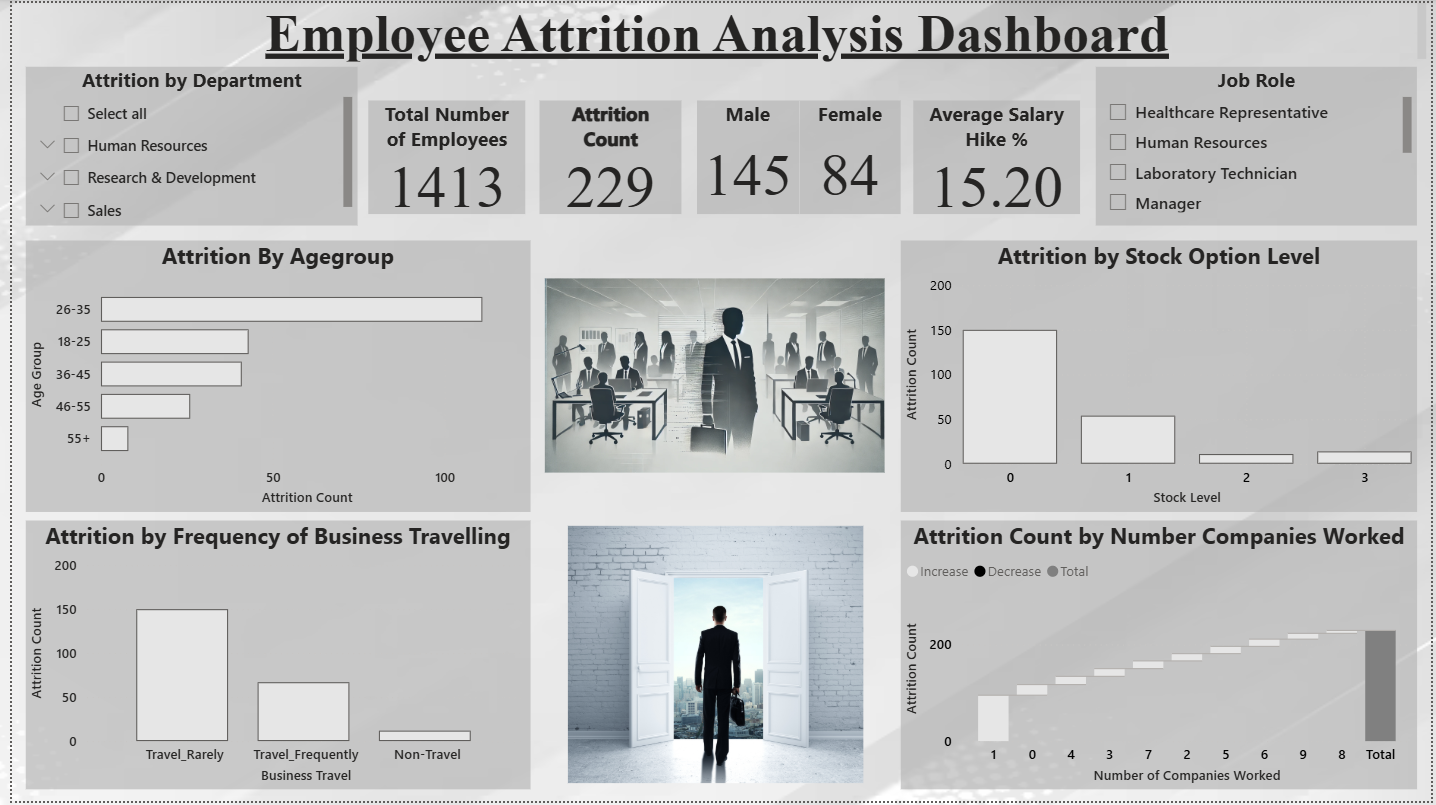

The dashboard page shown, as its layout file describes it:
{"tool":"powerbi","page":{"name":"Page 1","canvas":[1280,720],"ordinal":0},"visuals":[{"type":"textbox","box":[0,0,1280.3,57.5],"z":0},{"type":"card","title":"Total Number of Employees","fields":{"Values":["CountNonNull(Sheet1.AttritionCount)"]},"box":[321.6,88,141.8,102.7],"z":1000},{"type":"card","title":"Attrition Count","fields":{"Values":["Sum(Sheet1.AttritionCount)"]},"box":[475.7,88,128.4,102.7],"z":2000},{"type":"card","title":"Male ","fields":{"Values":["Sum(Sheet1.Male Attrition)"]},"box":[617.5,88,91.7,102.7],"z":3000},{"type":"card","title":"Female","fields":{"Values":["Sum(Sheet1.Female Attrition)"]},"box":[710,87.8,91.1,102.2],"z":4000},{"type":"slicer","title":"Attrition by Department","fields":{"Values":["Sheet1.Department","Sheet1.NumCompaniesWorked"]},"box":[12.2,57.5,299.6,143.1],"z":5000},{"type":"clusteredBarChart","title":"Attrition By Agegroup","fields":{"Category":["Sheet1.AgeGroup"],"Y":["Sum(Sheet1.AttritionCount)"]},"box":[12.2,214,454.9,244.6],"z":6000},{"type":"lineStackedColumnComboChart","title":"Attrition by Frequency of Business Travelling","fields":{"Category":["Sheet1.BusinessTravel"],"Y":["Sum(Sheet1.AttritionCount)"]},"box":[12.2,467.1,454.9,242.1],"z":7000},{"type":"slicer","title":"Job Role","fields":{"Values":["Sheet1.JobRole"]},"box":[977,57.5,289.8,143.1],"z":8000},{"type":"card","title":"Average Salary Hike %","fields":{"Values":["Avg(Sheet1.PercentSalaryHike)"]},"box":[813.2,88,150.4,102.7],"z":9000},{"type":"clusteredColumnChart","title":"Attrition by Stock Option Level","fields":{"Y":["Sum(Sheet1.AttritionCount)"],"Category":["Sheet1.StockOptionLevel"]},"box":[801,214,465.9,244.6],"z":10000},{"type":"waterfallChart","title":"Attrition Count by Number Companies Worked","fields":{"Category":["Sheet1.NumCompaniesWorked"],"Y":["Sum(Sheet1.AttritionCount)"]},"box":[801,467.1,465.9,242.1],"z":11000},{"type":"image","box":[475.7,243.3,316.7,184.6],"z":12000},{"type":"image","box":[476,467,317,242],"z":13000}]}

Visuals, with their boxes in screenshot pixels (x1, y1, x2, y2), scaled from the page's 1280x720 canvas onto the 1436x805 screenshot:
textbox: [left=0, top=0, right=1435, bottom=64]
"Total Number of Employees" card: [left=361, top=98, right=520, bottom=213]
"Attrition Count" card: [left=534, top=98, right=678, bottom=213]
"Male " card: [left=693, top=98, right=796, bottom=213]
"Female" card: [left=797, top=98, right=899, bottom=212]
"Attrition by Department" slicer: [left=14, top=64, right=350, bottom=224]
"Attrition By Agegroup" clusteredBarChart: [left=14, top=239, right=524, bottom=513]
"Attrition by Frequency of Business Travelling" lineStackedColumnComboChart: [left=14, top=522, right=524, bottom=793]
"Job Role" slicer: [left=1096, top=64, right=1421, bottom=224]
"Average Salary Hike %" card: [left=912, top=98, right=1081, bottom=213]
"Attrition by Stock Option Level" clusteredColumnChart: [left=899, top=239, right=1421, bottom=513]
"Attrition Count by Number Companies Worked" waterfallChart: [left=899, top=522, right=1421, bottom=793]
image: [left=534, top=272, right=889, bottom=478]
image: [left=534, top=522, right=890, bottom=793]
